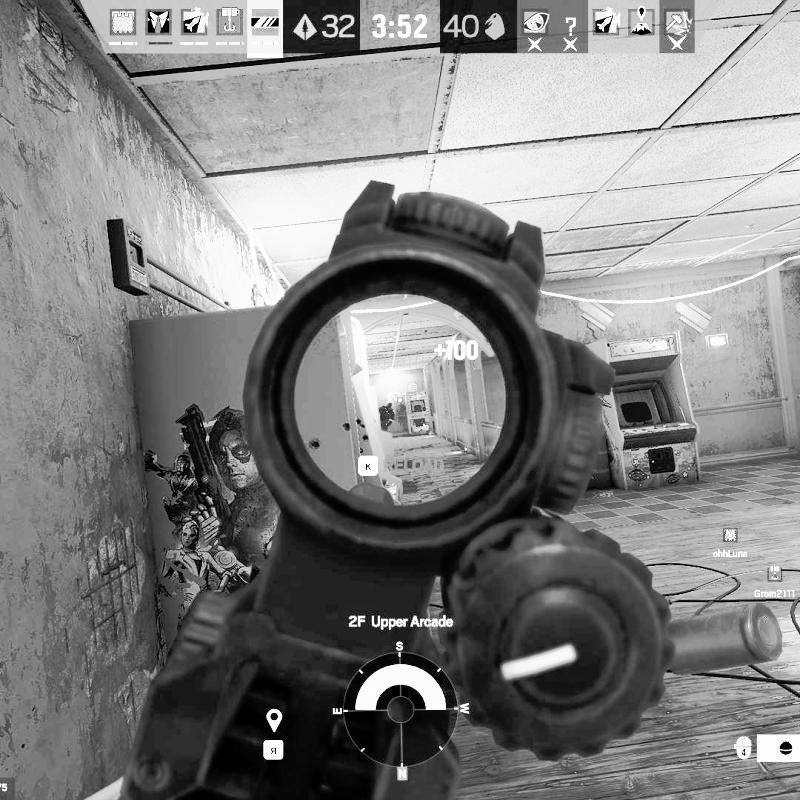Character: (378, 401, 396, 432), (420, 353, 420, 354)
Friend_label: (753, 565, 797, 599), (711, 528, 750, 559)
Head: (387, 401, 392, 408)
